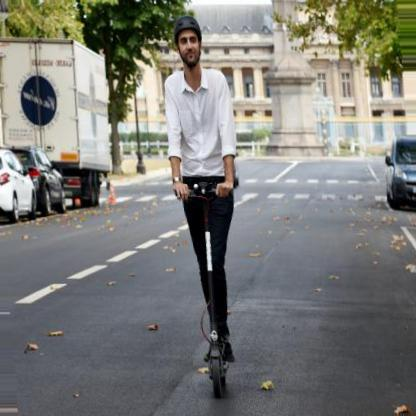scooter: (174, 178, 240, 400)
with helmet: (176, 16, 203, 68)
